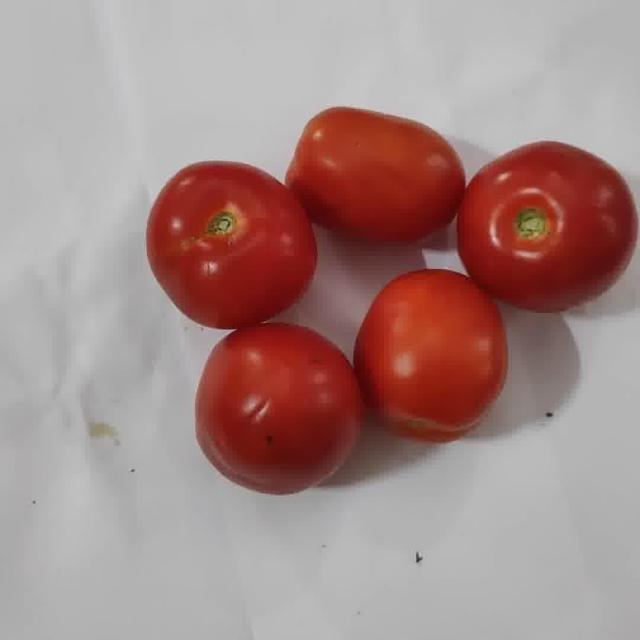Tomato: (456, 142, 636, 311), (147, 162, 316, 329), (196, 324, 360, 493), (354, 270, 506, 441), (286, 108, 465, 242)
